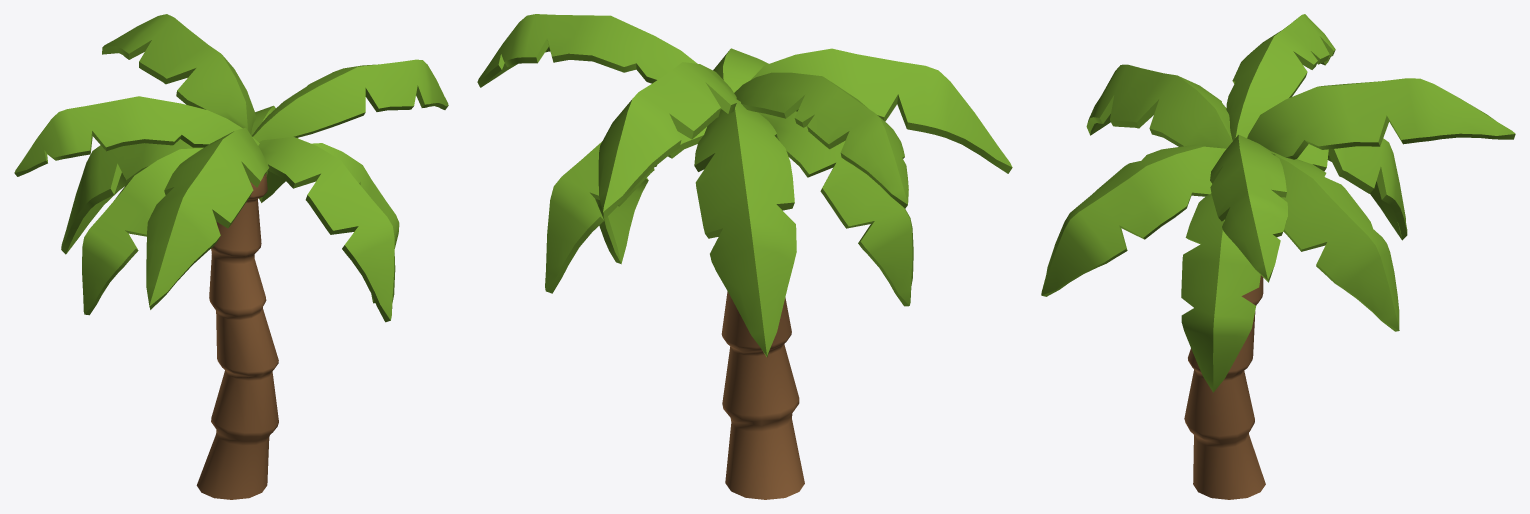
File: Palm_Tree_2.glb
3 renders of one model, left to right at view 1: azimuth 30°, elevation 25°; view 2: azimuth 150°, elevation 25°; view 3: azimuth 270°, elevation 25°, orthographic. The views are drawn at different scales.
Parts seen in each view (by area): view 1: Environment_PalmTree_3; view 2: Environment_PalmTree_3; view 3: Environment_PalmTree_3.
Part boxes in pixels (bbox=[...]): Environment_PalmTree_3: bbox=[14, 14, 448, 499]; Environment_PalmTree_3: bbox=[477, 14, 1012, 499]; Environment_PalmTree_3: bbox=[1041, 14, 1515, 499].
Bounding box in the file's own units: 2.86 × 2.69 × 2.75.
Materials: 1 (1 with a texture image).
